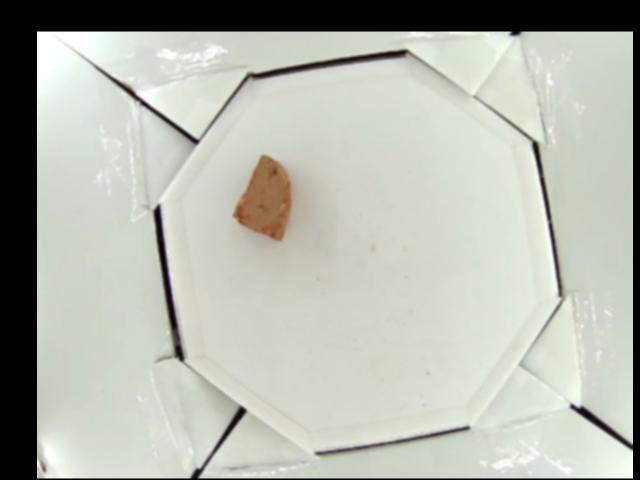Brisk: (231, 155, 290, 243)
